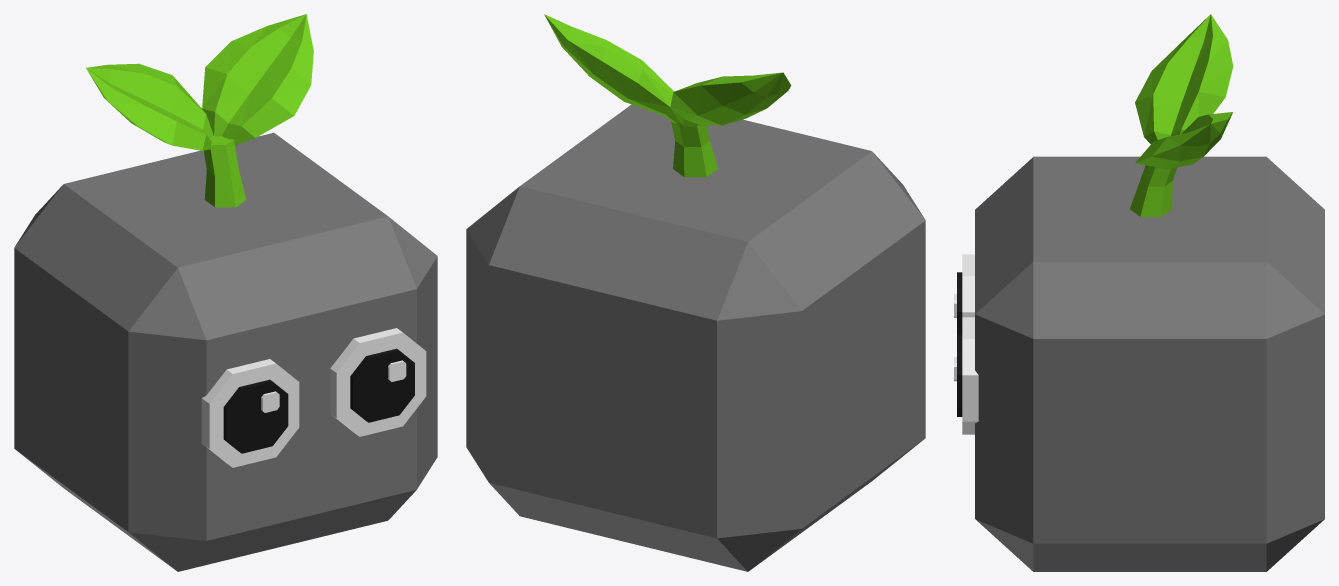
Rendered from Sprout.fbx.
The picture shows the model from 3 angles, left to right: view 1: azimuth 30°, elevation 25°; view 2: azimuth 150°, elevation 25°; view 3: azimuth 270°, elevation 25°; orthographic projection. The views are drawn at different scales.
Visible parts, largest first — view 1: Sprout, Sprout_Leaves, Sprout_Eyes, Sprout_Pupils; view 2: Sprout, Sprout_Leaves; view 3: Sprout, Sprout_Leaves, Sprout_Eyes, Sprout_Pupils.
Part boxes in pixels (x1=…): Sprout: x1=14, y1=132, x2=437, y2=571; Sprout_Leaves: x1=86, y1=14, x2=313, y2=207; Sprout_Eyes: x1=201, y1=328, x2=426, y2=467; Sprout_Pupils: x1=223, y1=348, x2=414, y2=453; Sprout: x1=466, y1=104, x2=925, y2=571; Sprout_Leaves: x1=544, y1=14, x2=791, y2=177; Sprout: x1=975, y1=156, x2=1324, y2=571; Sprout_Leaves: x1=1130, y1=14, x2=1233, y2=216; Sprout_Eyes: x1=954, y1=254, x2=978, y2=434; Sprout_Pupils: x1=957, y1=272, x2=962, y2=416.
Size of the model in its own units: 2 by 2.73 by 2.04.
